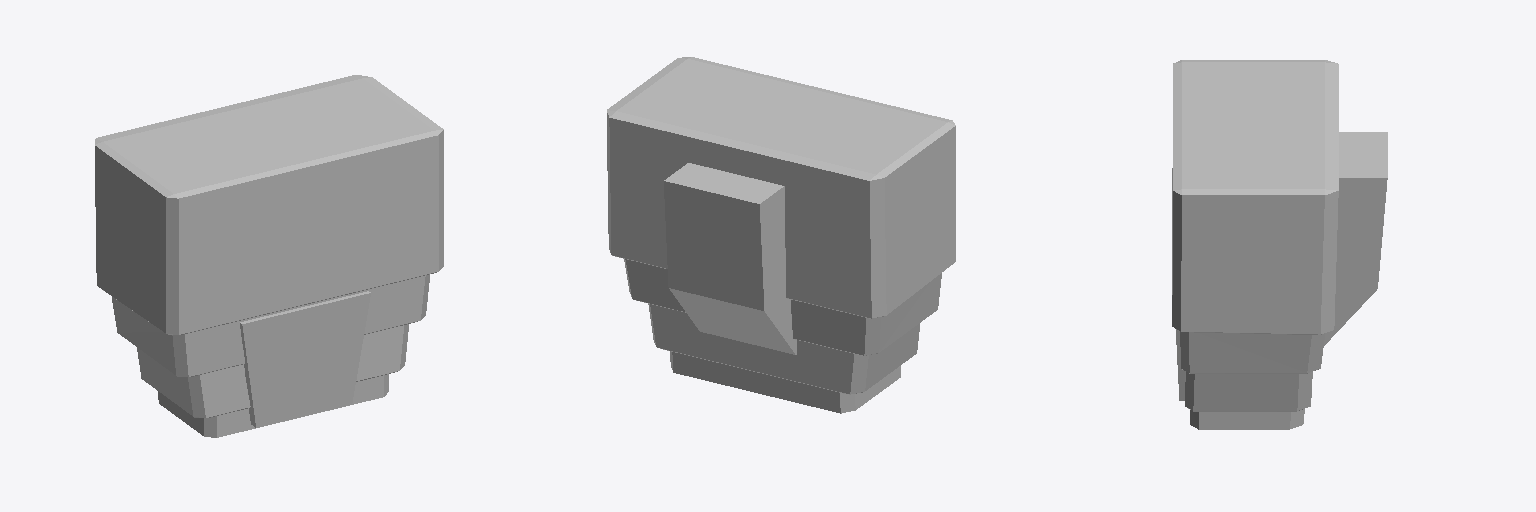
The model's file is ChestO.obj.
3 renders of one model, left to right at view 1: azimuth 30°, elevation 25°; view 2: azimuth 150°, elevation 25°; view 3: azimuth 270°, elevation 25°, orthographic.
Parts seen in each view (by area): view 1: group1 pCube72, opppk:group1 opppk:pCube64 pasted__polySurface40 opppk:polySurfa; view 2: group1 pCube72, pCube75 group1; view 3: group1 pCube72, pCube75 group1.
Part boxes in pixels (x1,y1,x2,y2): group1 pCube72: (95, 75, 443, 437); opppk:group1 opppk:pCube64 pasted__polySurface40 opppk:polySurfa: (240, 291, 370, 427); group1 pCube72: (607, 57, 955, 413); pCube75 group1: (664, 163, 796, 354); group1 pCube72: (1172, 60, 1338, 429); pCube75 group1: (1324, 132, 1387, 345).
Bounding box in the file's own units: 2.9 × 2.58 × 1.94.